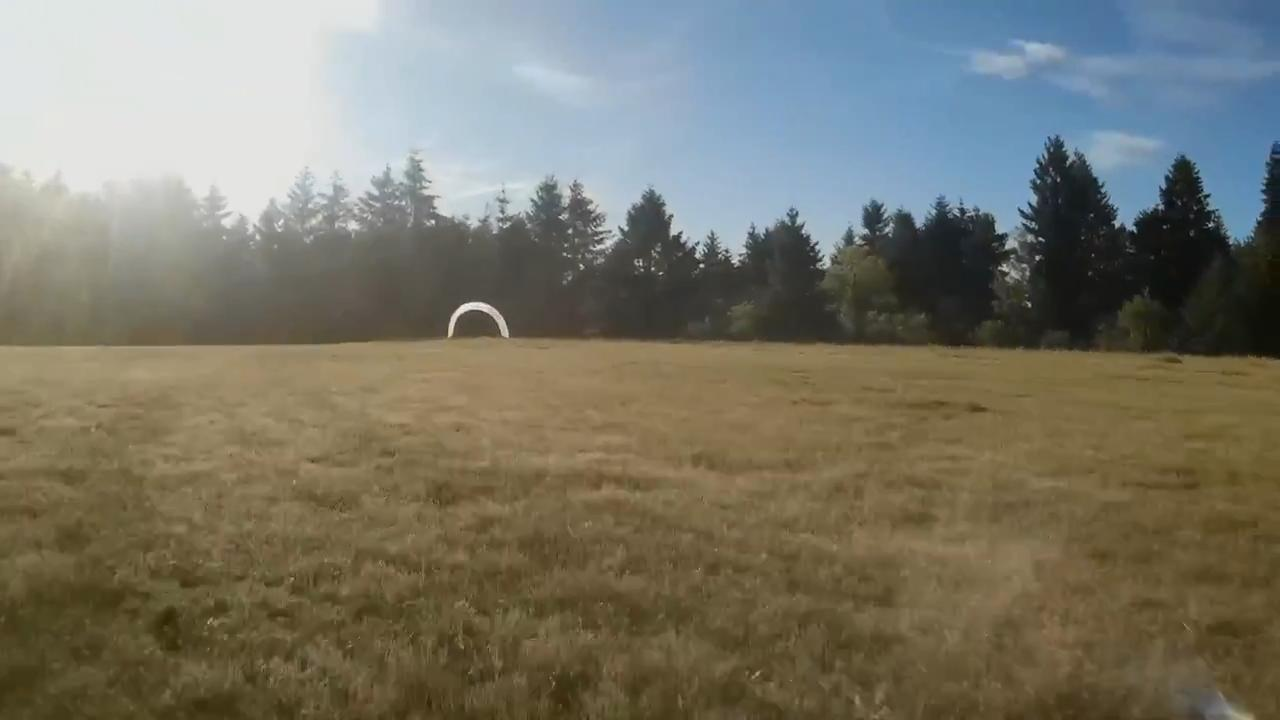gate: (446, 301, 509, 340)
